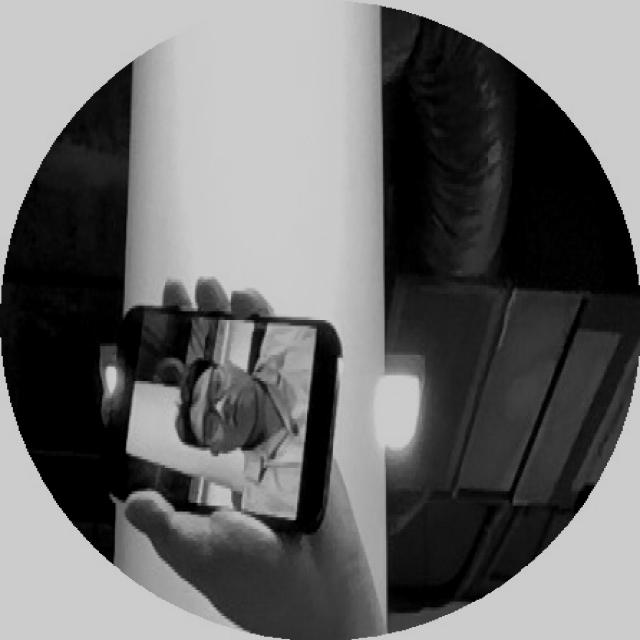fake: (88, 290, 366, 544), (78, 299, 349, 548)
